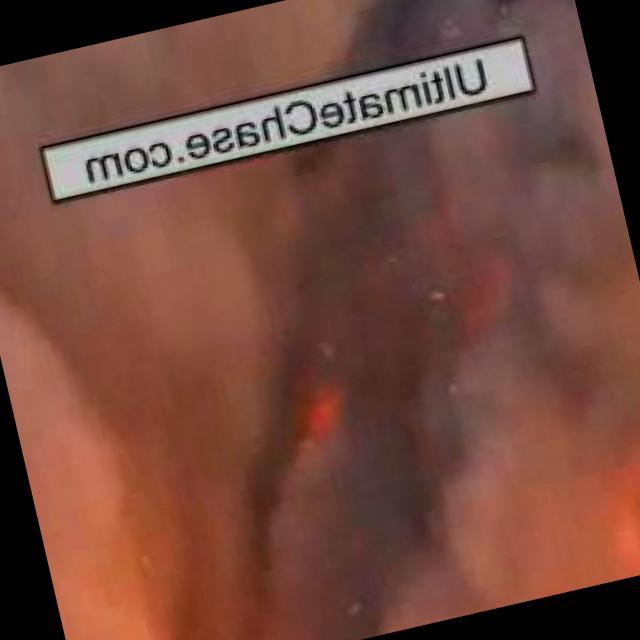Fire: (532, 382, 640, 590), (287, 381, 353, 459)
